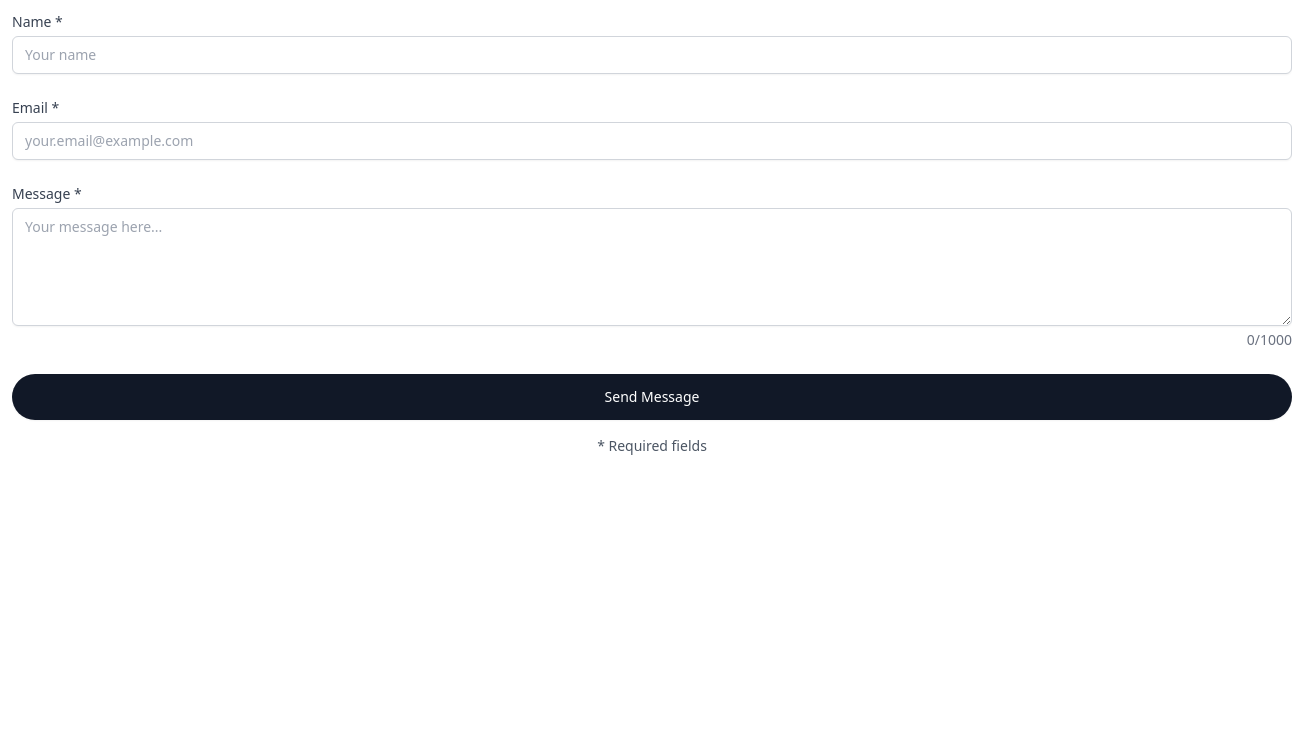
Test: ContactForm › submits form successfully with valid data
Note: Fill out the form with valid data
Type "John Doe" into the field labelled "Name *" at (652, 55), box [12,36,1292,74]
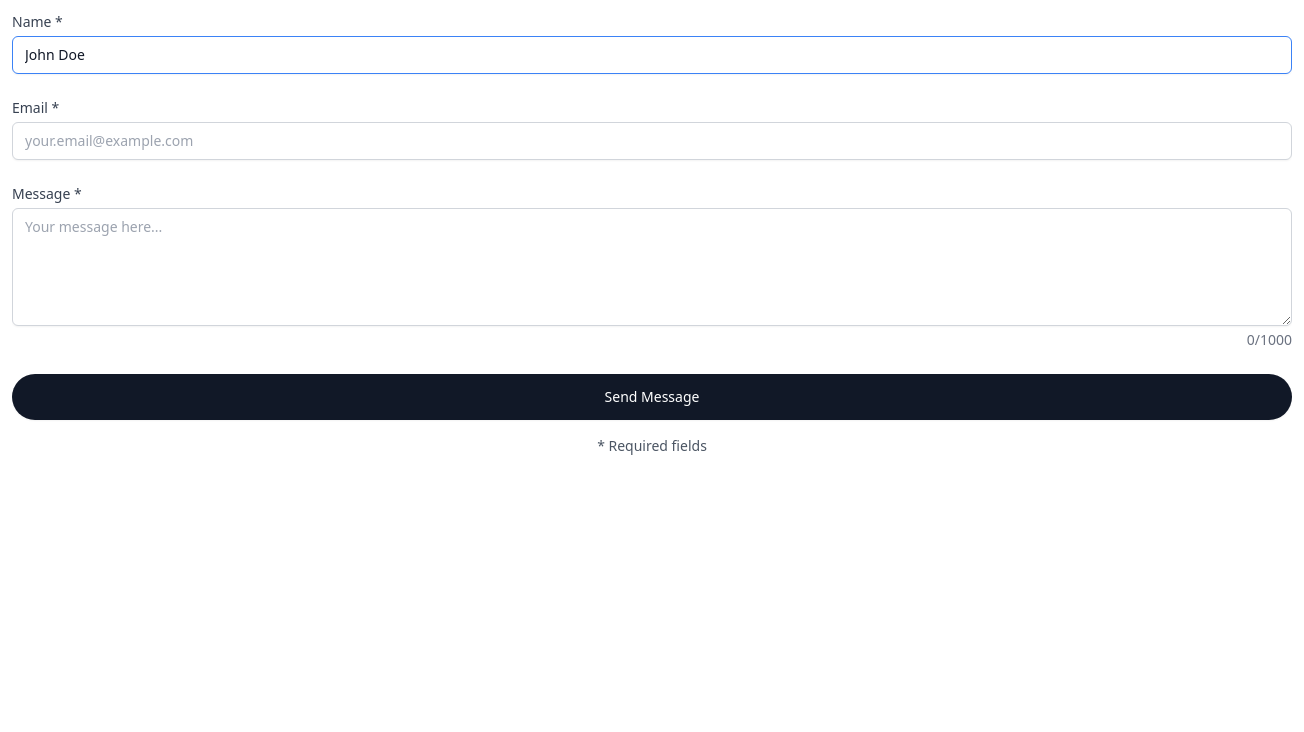
Type "john@example.com" into the field labelled "Email *" at (652, 141), box [12,122,1292,160]
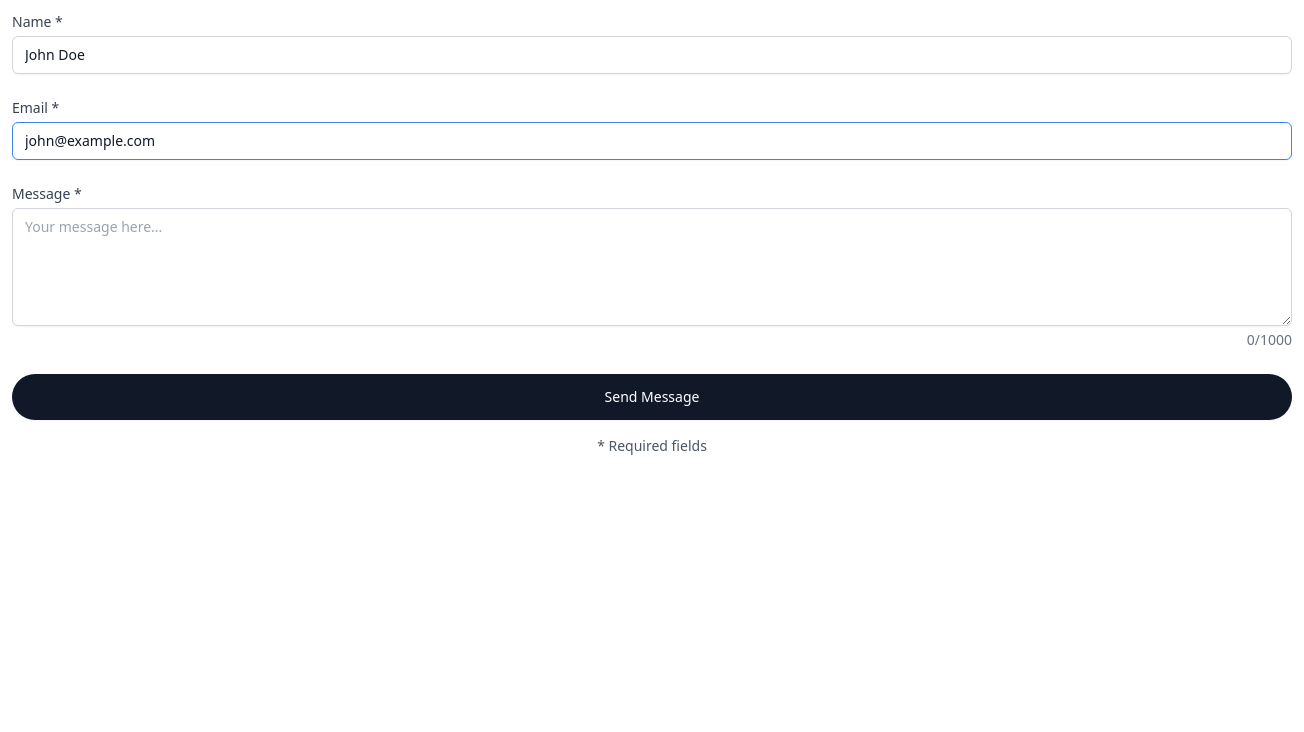
Type "Test message" into the text box labelled "Message *" at (652, 267), box [12,208,1292,326]
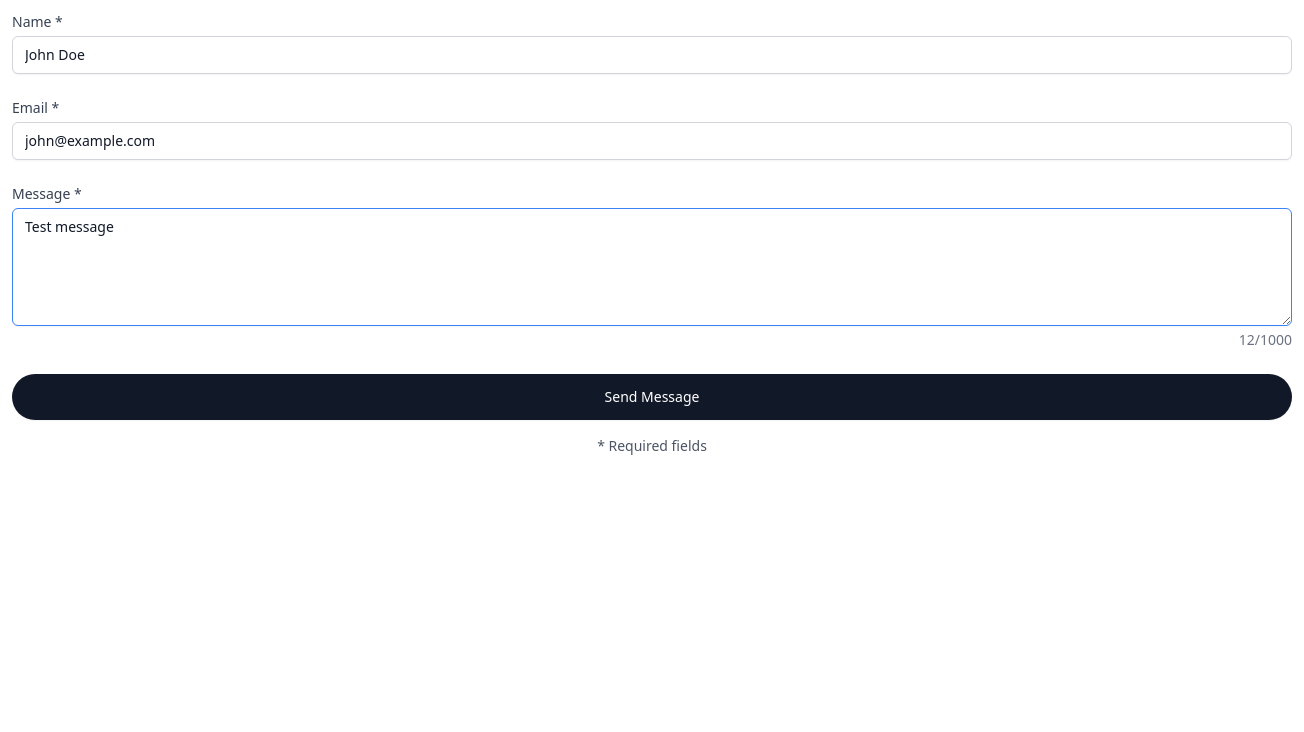
Click the button "Send Message" at (652, 397), box [12,374,1292,420]
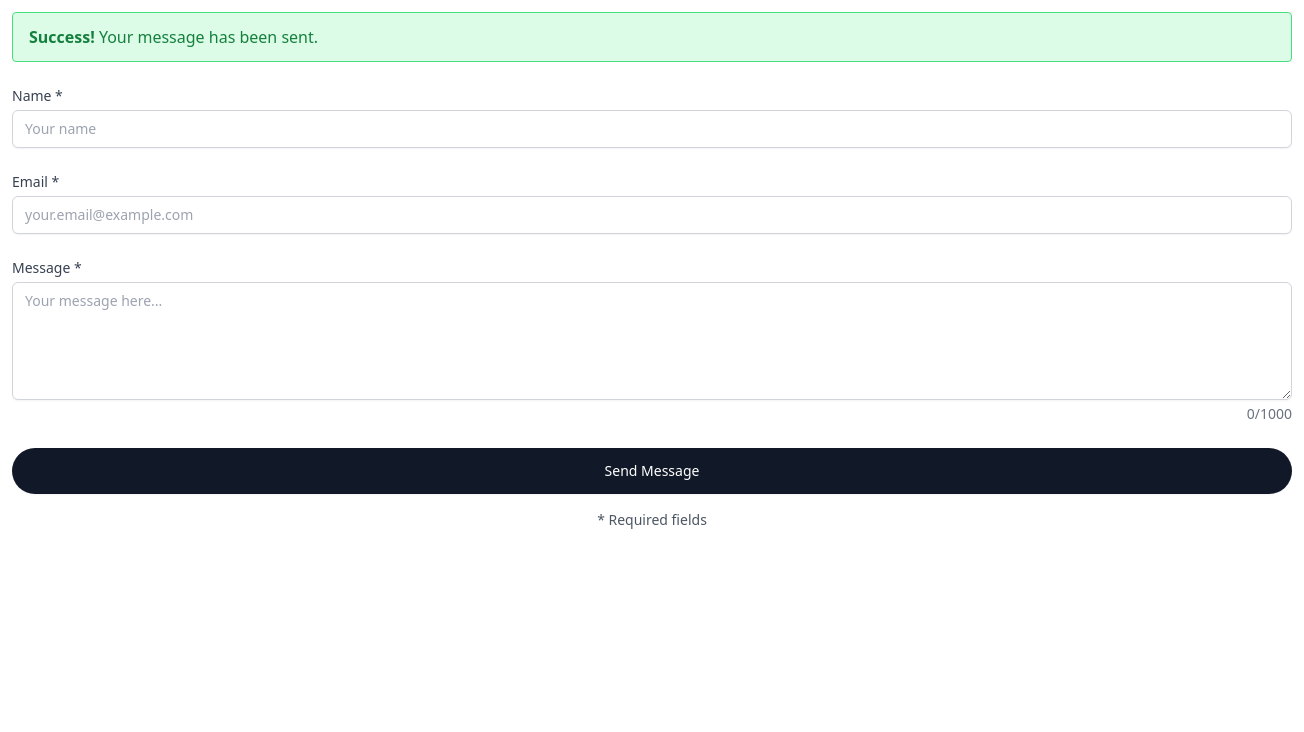
Expected: the text "Success!" is shown, [29,26,95,48]
